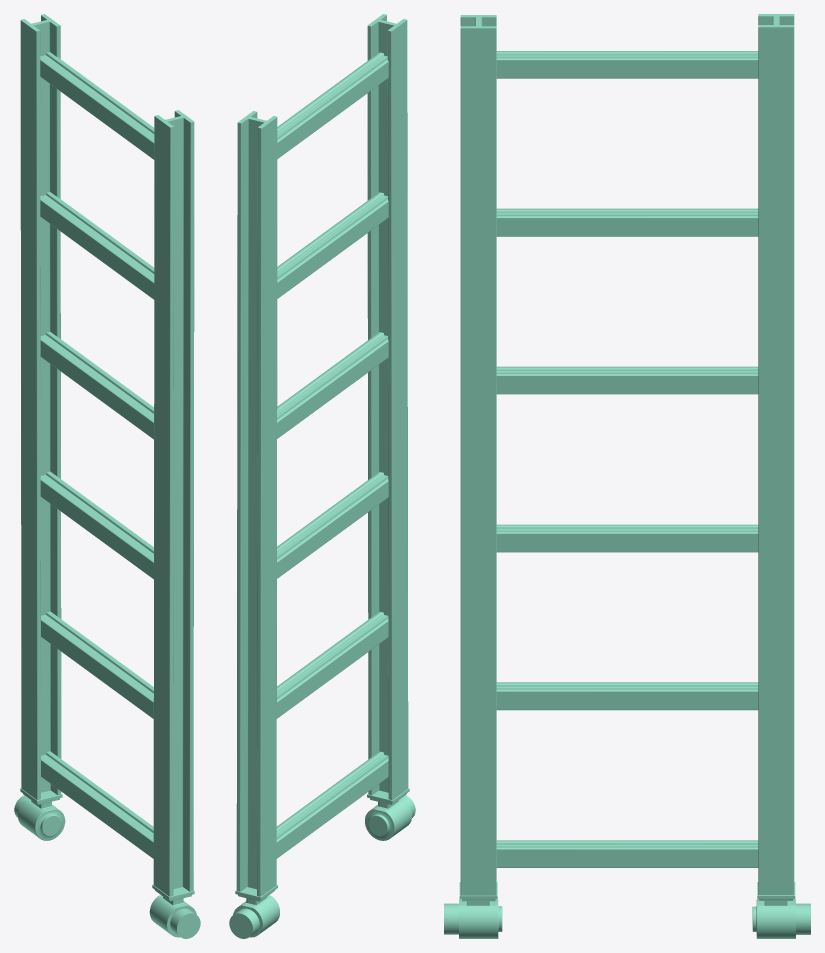
The model's file is Solar_Battery_Holder01_02.fbx.
3 views of the same model, side by side, from view 1: azimuth 30°, elevation 25°; view 2: azimuth 150°, elevation 25°; view 3: azimuth 270°, elevation 25° (orthographic). The views are drawn at different scales.
Visible parts, largest first — view 1: SM_Solar_Battery_Holder01_02; view 2: SM_Solar_Battery_Holder01_02; view 3: SM_Solar_Battery_Holder01_02.
Boxes of the visible parts, bbox=[...] form: SM_Solar_Battery_Holder01_02: bbox=[14, 14, 200, 938]; SM_Solar_Battery_Holder01_02: bbox=[229, 14, 415, 938]; SM_Solar_Battery_Holder01_02: bbox=[444, 14, 810, 938].
Bounding box in the file's own units: 0.1268 × 3.27 × 1.19.
